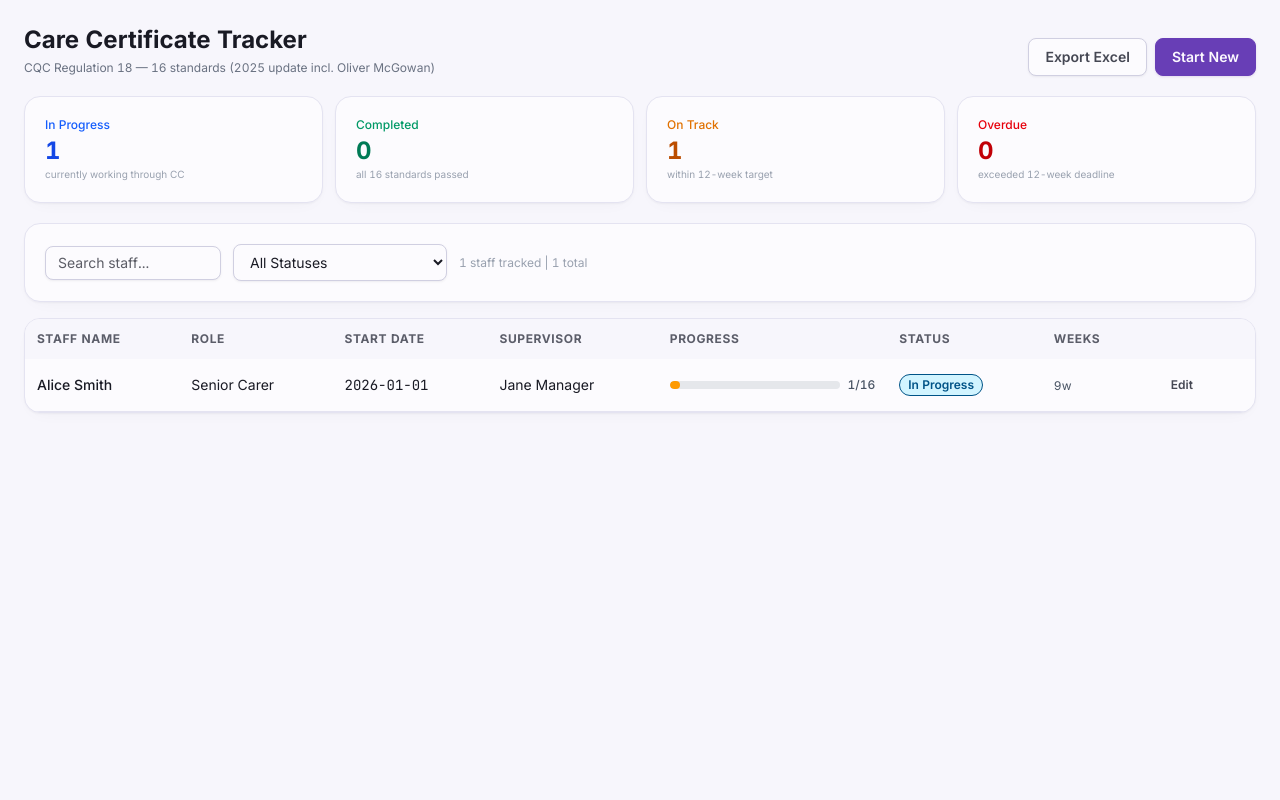
Test: CareCertificateTracker › labels filters and start-modal fields for keyboard users
Expected: the field named "Search Care Certificate staff" is shown, top-left (45, 246), bottom-right (221, 280)
Expected: the dropdown named "Filter Care Certificate status" is shown, top-left (233, 244), bottom-right (447, 281)
Click the button "Start New" at x=1205, y=57, box top-left (1155, 38), bottom-right (1256, 76)
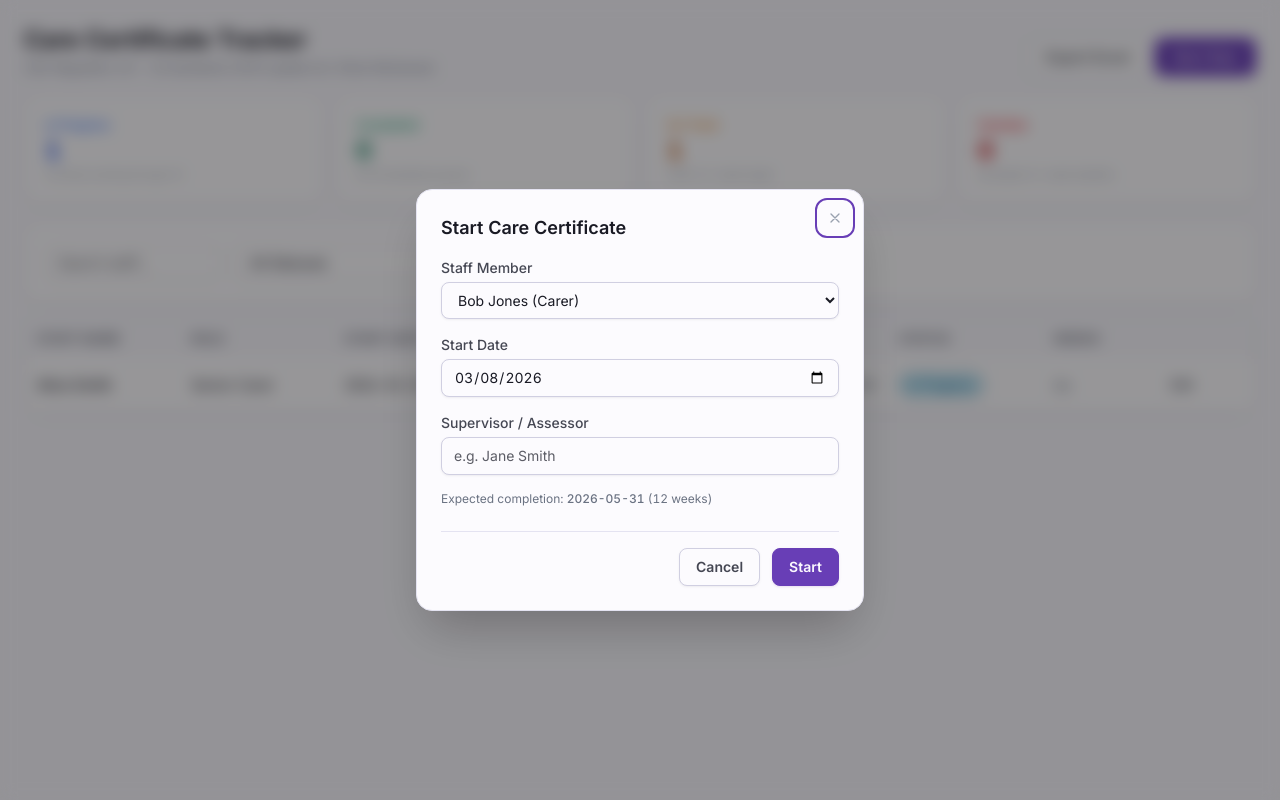
Expected: the dropdown labelled "Staff Member" is shown, top-left (441, 282), bottom-right (839, 319)
Expected: the date field labelled "Start Date" is shown, top-left (441, 359), bottom-right (839, 397)
Expected: the field labelled "Supervisor / Assessor" is shown, top-left (441, 437), bottom-right (839, 475)
